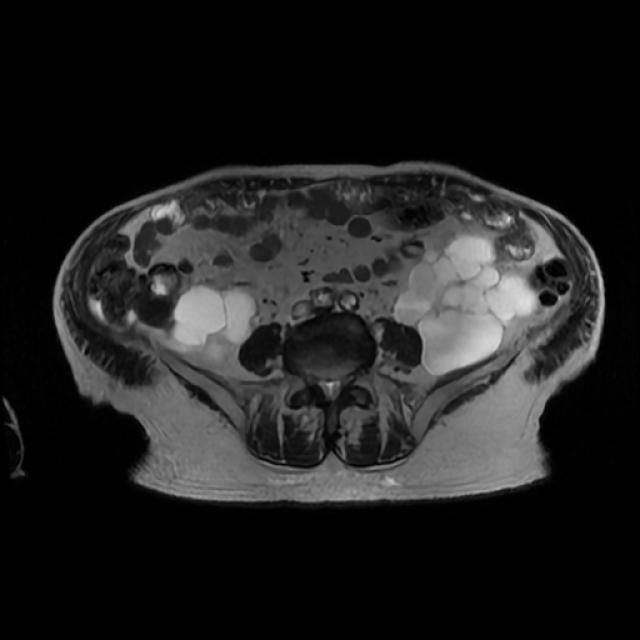sag: (171, 284, 259, 364)
sol: (389, 235, 539, 374)
